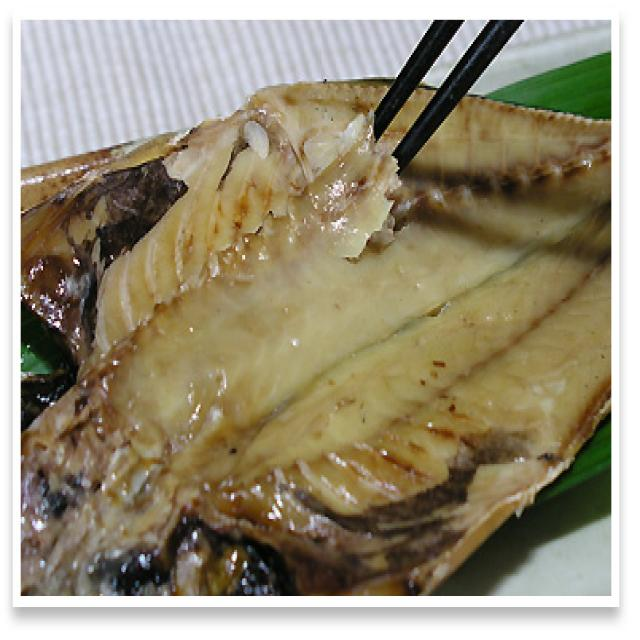熟制海鲜: (24, 79, 608, 592)
